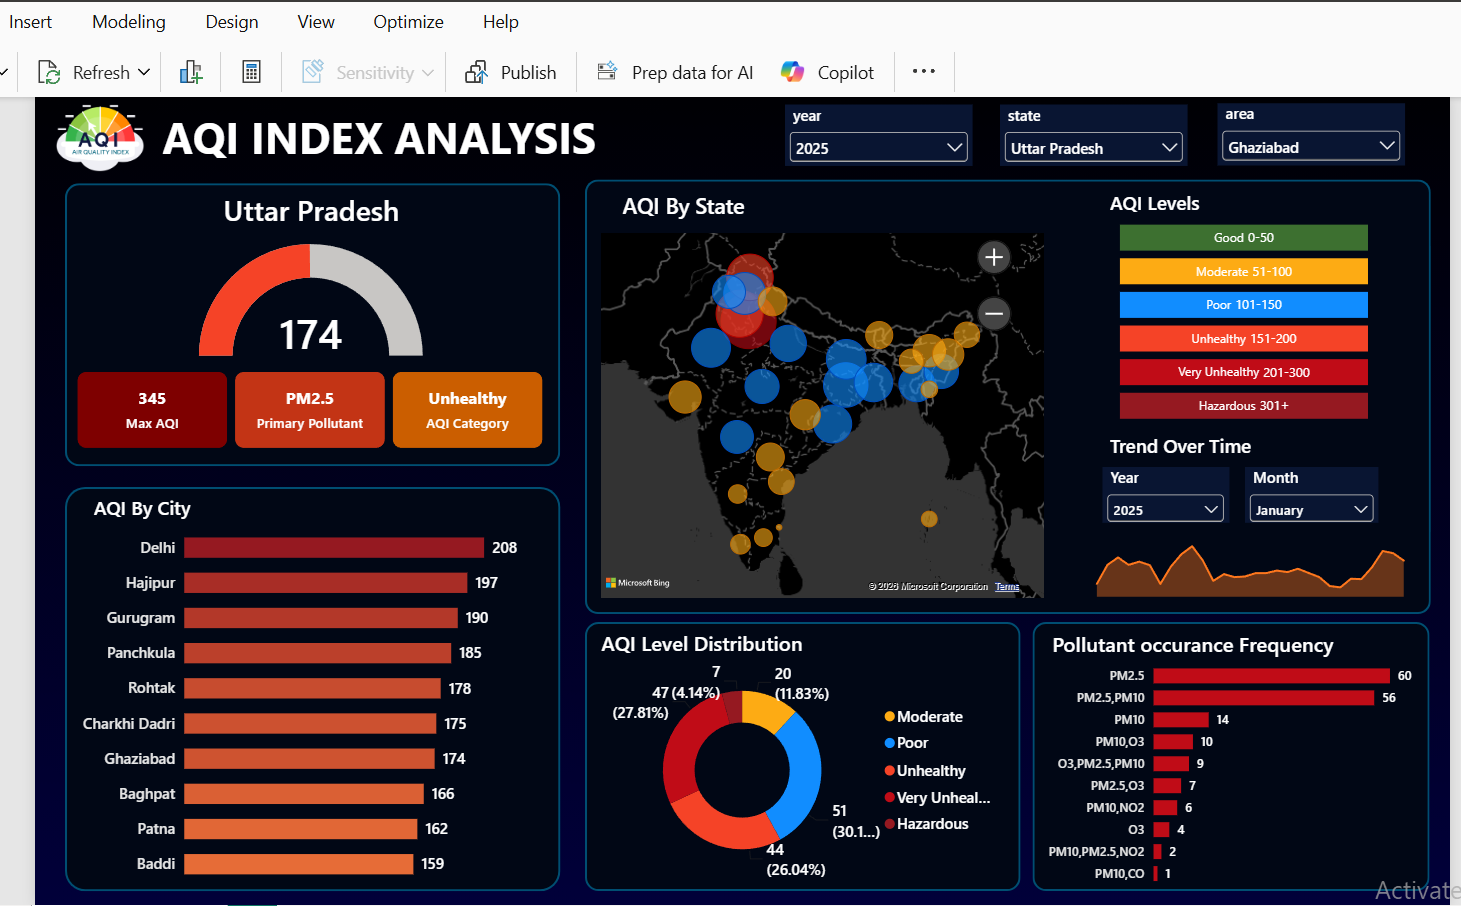

This screenshot's page, from the dashboard's own definition file:
{"tool":"powerbi","page":{"name":"AQI INDEX ANALYSIS","canvas":[1400,800],"ordinal":0},"visuals":[{"type":"textbox","box":[126.8,9.9,446.4,71],"z":0},{"type":"shape","box":[29.6,85.9,490,280],"z":1000},{"type":"gauge","fields":{"Y":["day_wise_aqi_data.AVG AQI"]},"box":[126,131.4,293.6,140.8],"z":2000},{"type":"cardVisual","fields":{"Data":["Max(day_wise_aqi_data.aqi_value)","day_wise_aqi_data.Primary Pollutant","day_wise_aqi_data.AQI Category KPI"]},"box":[42.3,271.8,461.7,75],"z":3000},{"type":"slicer","fields":{"Values":["Calendar Table.year"]},"box":[742.3,7,185.9,60.6],"z":4000},{"type":"slicer","fields":{"Values":["day_wise_aqi_data.state"]},"box":[954.9,7,185.9,60.6],"z":5000},{"type":"slicer","fields":{"Values":["day_wise_aqi_data.area"]},"box":[1170.4,5.6,185.9,62],"z":6000},{"type":"cardVisual","fields":{"Data":["day_wise_aqi_data.KPI Title"]},"box":[35.2,85.9,478.2,52.1],"z":7000},{"type":"shape","box":[543.7,81.7,837,430],"z":8000},{"type":"map","fields":{"Category":["day_wise_aqi_data.state"],"Size":["day_wise_aqi_data.AVG AQI"]},"box":[543.7,119.7,470.4,391.5],"z":9000},{"type":"cardVisual","fields":{"Data":["day_wise_aqi_data.State Map Title"]},"box":[564.8,81.7,270.1,51.9],"z":10000},{"type":"barChart","fields":{"Category":["day_wise_aqi_data.AQI Category"],"Y":["day_wise_aqi_data.Label"]},"box":[1057.7,104.2,277.5,231],"z":11000},{"type":"cardVisual","fields":{"Data":["day_wise_aqi_data.AQI Levels Title"]},"box":[1047.9,78.9,270.1,51.9],"z":12000},{"type":"areaChart","fields":{"Category":["Calendar Table.Date.Variation.Date Hierarchy.Day"],"Y":["day_wise_aqi_data.AVG AQI"]},"box":[1014.1,419.7,366.2,91.5],"z":13000},{"type":"slicer","fields":{"Values":["Calendar Table.Date.Variation.Date Hierarchy.Year"]},"box":[1056.3,366,125.4,54.9],"z":14000},{"type":"slicer","fields":{"Values":["Calendar Table.Date.Variation.Date Hierarchy.Month"]},"box":[1197.2,366.2,132.4,54.9],"z":15000},{"type":"shape","box":[29.6,385.9,490.1,400],"z":16000},{"type":"cardVisual","fields":{"Data":["day_wise_aqi_data.Title for monthly chart"]},"box":[1047.9,323.9,177.5,40.8],"z":17000},{"type":"barChart","fields":{"Category":["day_wise_aqi_data.area"],"Y":["day_wise_aqi_data.AVG AQI"]},"box":[29.6,400,490.1,400],"z":18000},{"type":"cardVisual","fields":{"Data":["day_wise_aqi_data.title for city"]},"box":[42.3,385.9,177.5,40.8],"z":19000},{"type":"shape","box":[543.7,519.7,431,266.2],"z":20000},{"type":"donutChart","fields":{"Category":["day_wise_aqi_data.AQI Category"],"Y":["day_wise_aqi_data.count of rows"]},"box":[543.7,540.8,431,252.1],"z":21000},{"type":"cardVisual","fields":{"Data":["day_wise_aqi_data.donot"]},"box":[543.7,519.7,235.2,40.8],"z":22000},{"type":"shape","box":[987.3,519.7,393,266.2],"z":23000},{"type":"barChart","fields":{"Category":["day_wise_aqi_data.prominent_pollutants"],"Y":["day_wise_aqi_data.Count Of Rows"]},"box":[985.9,533.8,393,266.2],"z":24000},{"type":"cardVisual","fields":{"Data":["day_wise_aqi_data.pollutant title"]},"box":[990.1,521.1,328.2,40.8],"z":25000},{"type":"image","box":[14.1,5.6,101.4,69],"z":25001}]}

Visuals, with their boxes on the page's 1400x800 design canvas (x1, y1, x2, y2). These are canvas units, not pixel positions in the 1461x906 screenshot, which may show the page scaled, cropped or inside an application window:
textbox: bbox=(127, 10, 573, 81)
shape: bbox=(30, 86, 520, 366)
gauge - day_wise_aqi_data.AVG AQI: bbox=(126, 131, 420, 272)
cardVisual - Max(day_wise_aqi_data.aqi_value) x day_wise_aqi_data.Primary Pollutant: bbox=(42, 272, 504, 347)
slicer - Calendar Table.year: bbox=(742, 7, 928, 68)
slicer - day_wise_aqi_data.state: bbox=(955, 7, 1141, 68)
slicer - day_wise_aqi_data.area: bbox=(1170, 6, 1356, 68)
cardVisual - day_wise_aqi_data.KPI Title: bbox=(35, 86, 513, 138)
shape: bbox=(544, 82, 1381, 512)
map - day_wise_aqi_data.state x day_wise_aqi_data.AVG AQI: bbox=(544, 120, 1014, 511)
cardVisual - day_wise_aqi_data.State Map Title: bbox=(565, 82, 835, 134)
barChart - day_wise_aqi_data.AQI Category x day_wise_aqi_data.Label: bbox=(1058, 104, 1335, 335)
cardVisual - day_wise_aqi_data.AQI Levels Title: bbox=(1048, 79, 1318, 131)
areaChart - Calendar Table.Date.Variation.Date Hierarchy.Day x day_wise_aqi_data.AVG AQI: bbox=(1014, 420, 1380, 511)
slicer - Calendar Table.Date.Variation.Date Hierarchy.Year: bbox=(1056, 366, 1182, 421)
slicer - Calendar Table.Date.Variation.Date Hierarchy.Month: bbox=(1197, 366, 1330, 421)
shape: bbox=(30, 386, 520, 786)
cardVisual - day_wise_aqi_data.Title for monthly chart: bbox=(1048, 324, 1225, 365)
barChart - day_wise_aqi_data.area x day_wise_aqi_data.AVG AQI: bbox=(30, 400, 520, 800)
cardVisual - day_wise_aqi_data.title for city: bbox=(42, 386, 220, 427)
shape: bbox=(544, 520, 975, 786)
donutChart - day_wise_aqi_data.AQI Category x day_wise_aqi_data.count of rows: bbox=(544, 541, 975, 793)
cardVisual - day_wise_aqi_data.donot: bbox=(544, 520, 779, 560)
shape: bbox=(987, 520, 1380, 786)
barChart - day_wise_aqi_data.prominent_pollutants x day_wise_aqi_data.Count Of Rows: bbox=(986, 534, 1379, 800)
cardVisual - day_wise_aqi_data.pollutant title: bbox=(990, 521, 1318, 562)
image: bbox=(14, 6, 116, 75)
